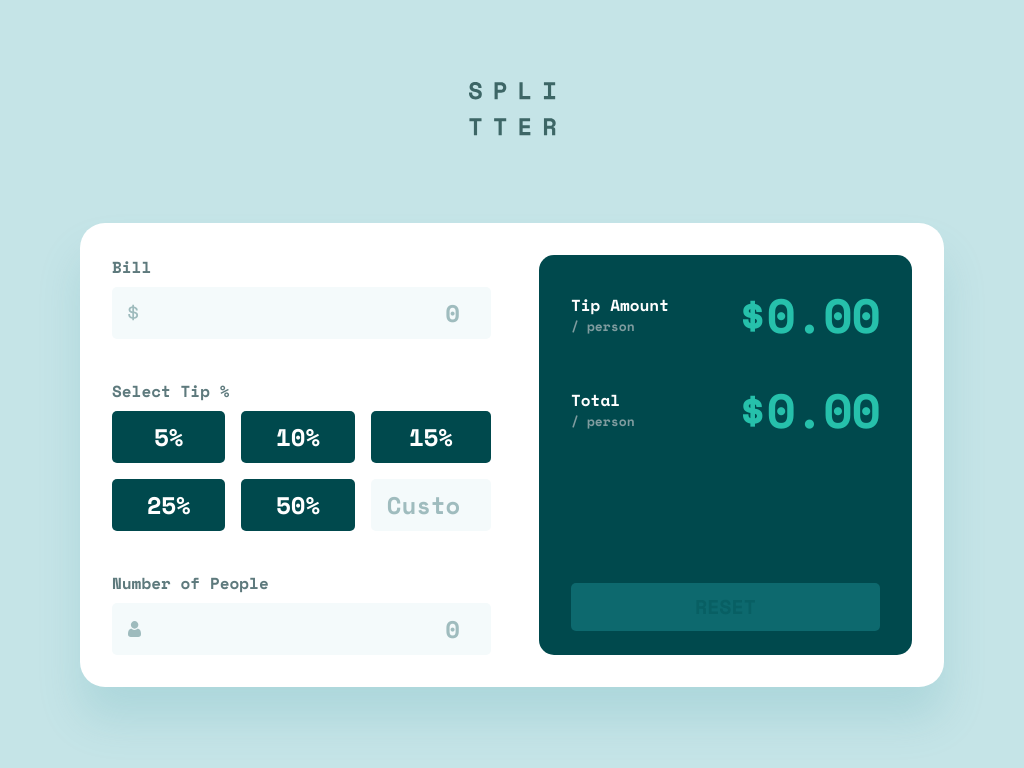
Test: Whole App › error path - inputs invalid values and receives error messages
Type "-1" into the number field with id "input-number-of-people". click: [302, 628]
box: [112, 602, 491, 654]
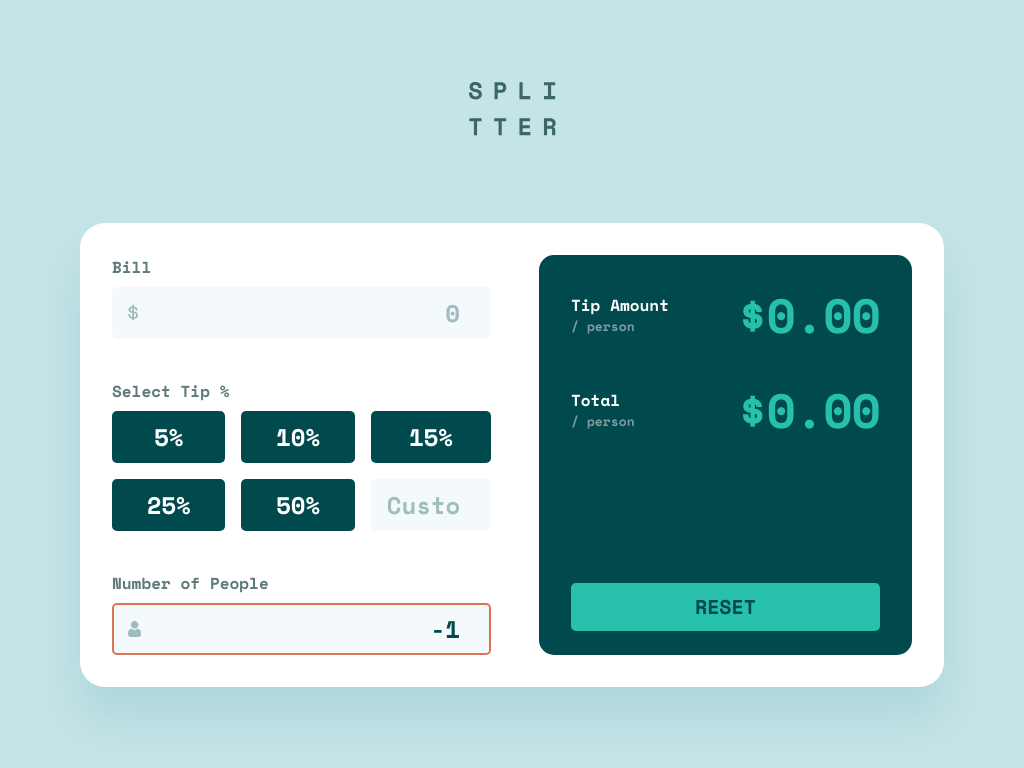
Submit the form, box [112, 254, 491, 654]
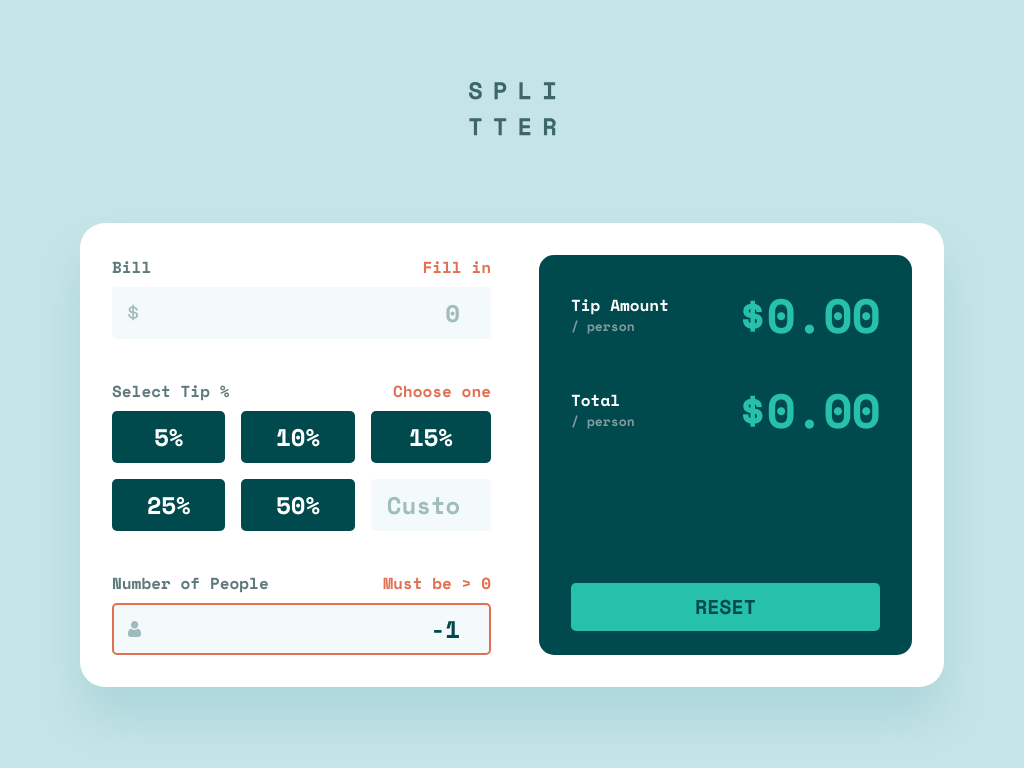
expect the number of elements with class "input__error" is 3: met, box [422, 254, 491, 278]; [393, 378, 491, 402]; [383, 570, 491, 594]
expect the text with class "input__error" reads "Fill in": met, box [422, 254, 491, 278]
expect the text with class "input__error" reads "Choose one": met, box [393, 378, 491, 402]
